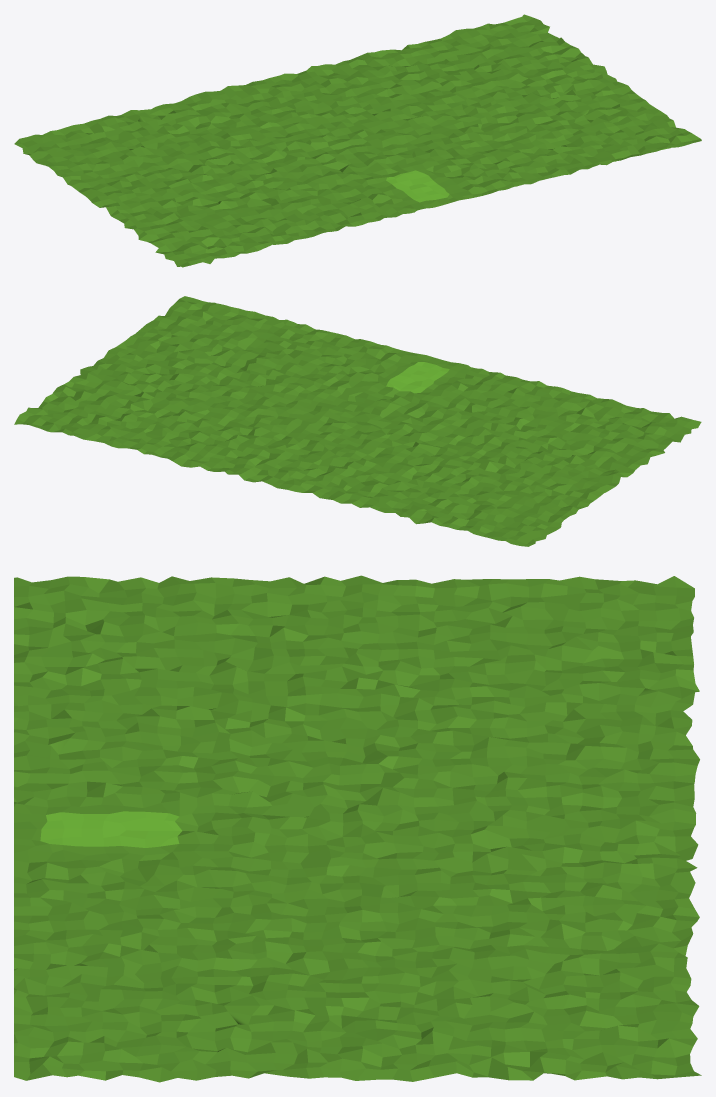
Rendered from Forest_Level_Floor.fbx.
3 views of the same model, one above another, from view 1: azimuth 30°, elevation 25°; view 2: azimuth 150°, elevation 25°; view 3: azimuth 270°, elevation 25° (orthographic). The views are drawn at different scales.
Visible parts, largest first — view 1: Forest_Level_Floor; view 2: Forest_Level_Floor; view 3: Forest_Level_Floor.
Boxes of the visible parts, x1,y1,x2,y2 form: Forest_Level_Floor: (14,14,701,267); Forest_Level_Floor: (14,296,701,546); Forest_Level_Floor: (14,575,701,1082).
Size of the model in its own units: 6093 by 79.46 by 3502.
